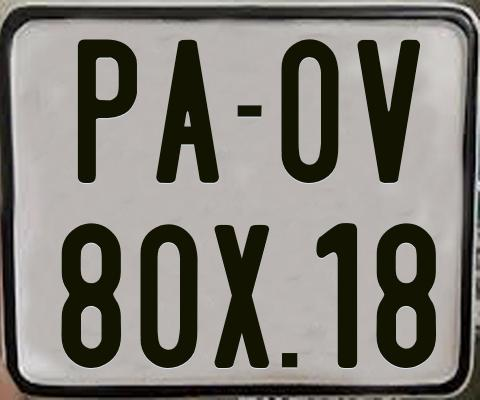0: (281, 38, 344, 187), (139, 224, 203, 368)
1: (316, 223, 362, 374)
8: (61, 220, 125, 367), (373, 222, 433, 370)
A: (155, 38, 220, 187)
P: (77, 36, 137, 181)
V: (356, 39, 420, 182)
X: (213, 223, 268, 372)
